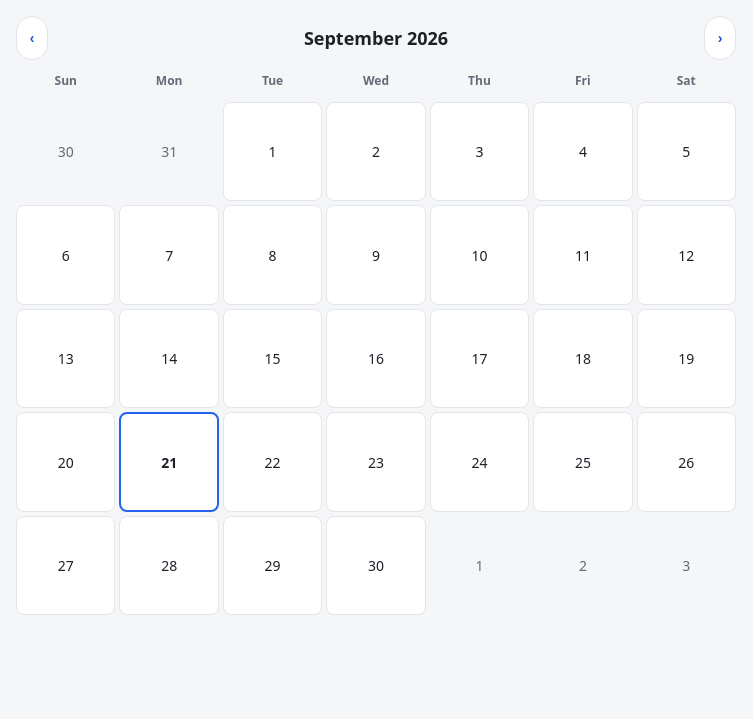
Scenario: AppointmentCalendar › shows an empty message for a selected day with no appointments
Click the button with test id "calendar-day-2026-09-10" at [480, 255], box [430,205,529,305]
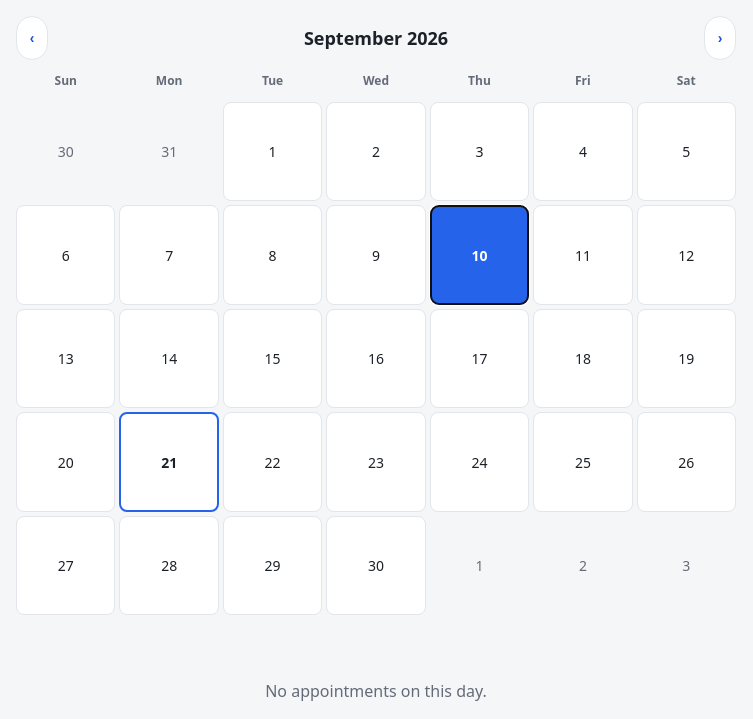
Expected: the text "No appointments on this day." is shown, [265,680,487,702]
